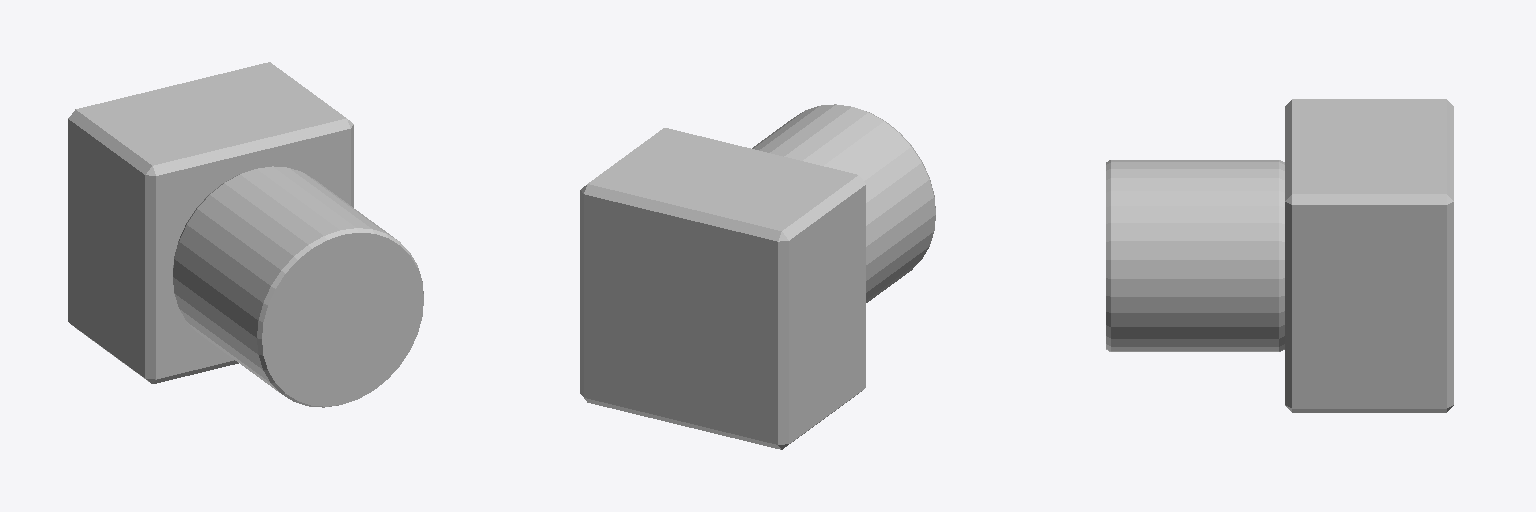
File: laser.obj
3 renders of one model, left to right at view 1: azimuth 30°, elevation 25°; view 2: azimuth 150°, elevation 25°; view 3: azimuth 270°, elevation 25°, orthographic.
Size of the model in its own units: 0.05 by 0.05 by 0.0721.